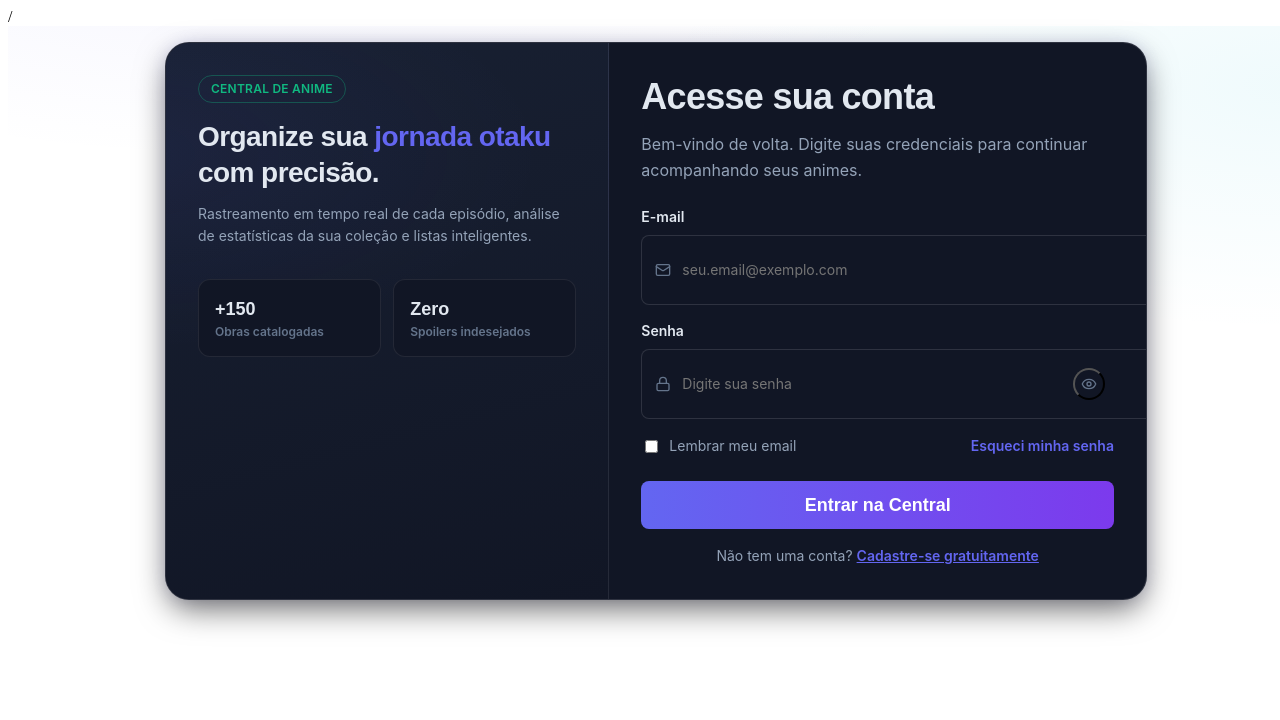
Test: frontend authentication flows › navega do login para recuperação e oferece link de cadastro
Click the button "Esqueci minha senha" at [1042, 446], box [971,436,1114,456]
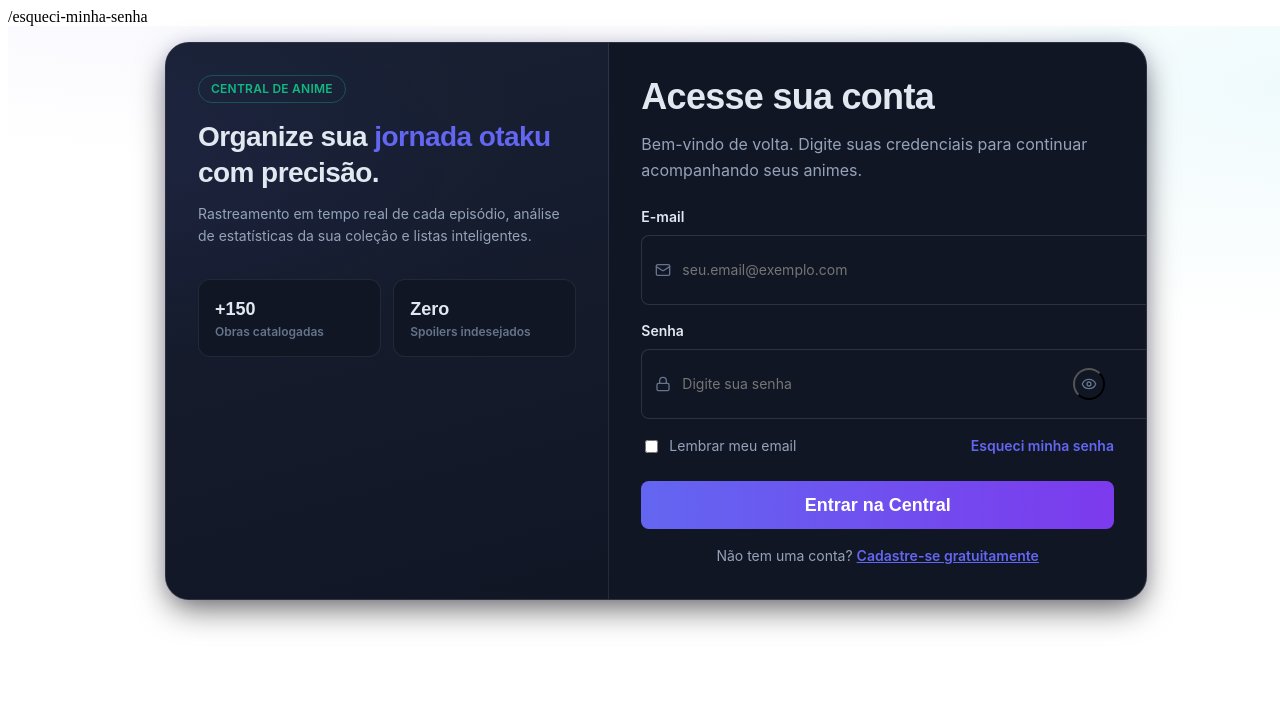
expect the text with test id "current-path" reads "/esqueci-minha-senha": met, box [8,8,148,25]
